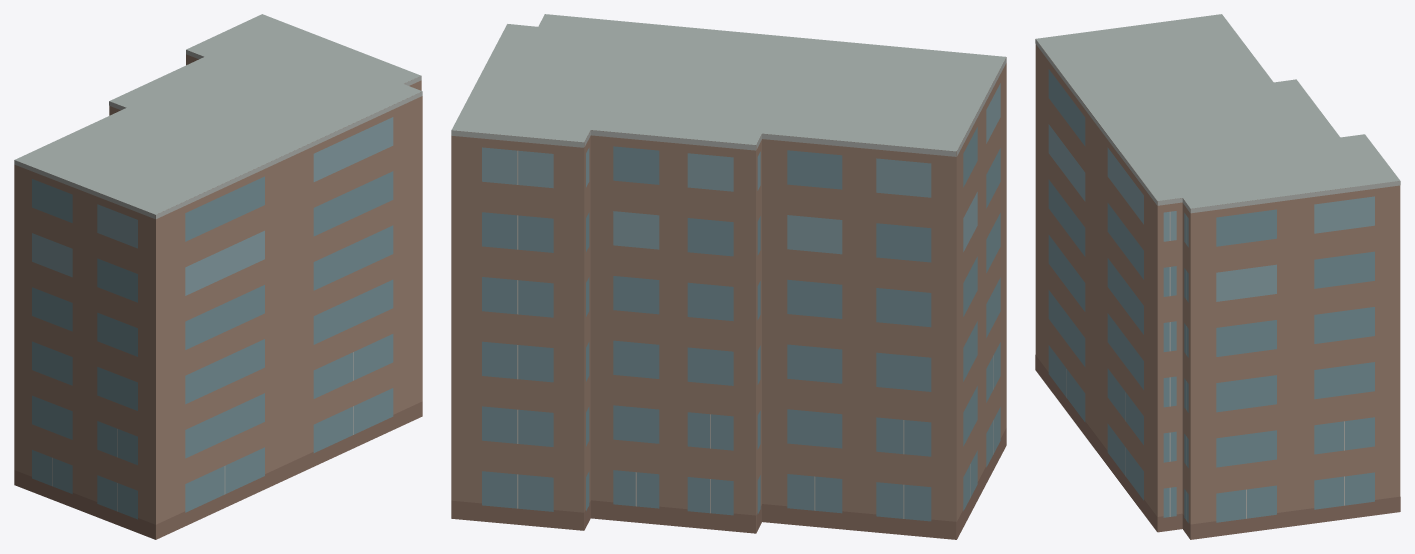
File: survey-upis-32612564.glb
The picture shows the model from 3 angles, left to right: view 1: azimuth 30°, elevation 25°; view 2: azimuth 150°, elevation 25°; view 3: azimuth 270°, elevation 25°; orthographic projection. The views are drawn at different scales.
Visible parts, largest first — view 1: survey-upis-32612564.tmp; view 2: survey-upis-32612564.tmp; view 3: survey-upis-32612564.tmp.
Boxes of the visible parts, <box> form: survey-upis-32612564.tmp: <box>14,14,422,539</box>; survey-upis-32612564.tmp: <box>451,14,1006,539</box>; survey-upis-32612564.tmp: <box>1035,14,1400,539</box>.
Bounding box in the file's own units: 21.82 × 17.3 × 17.29.
